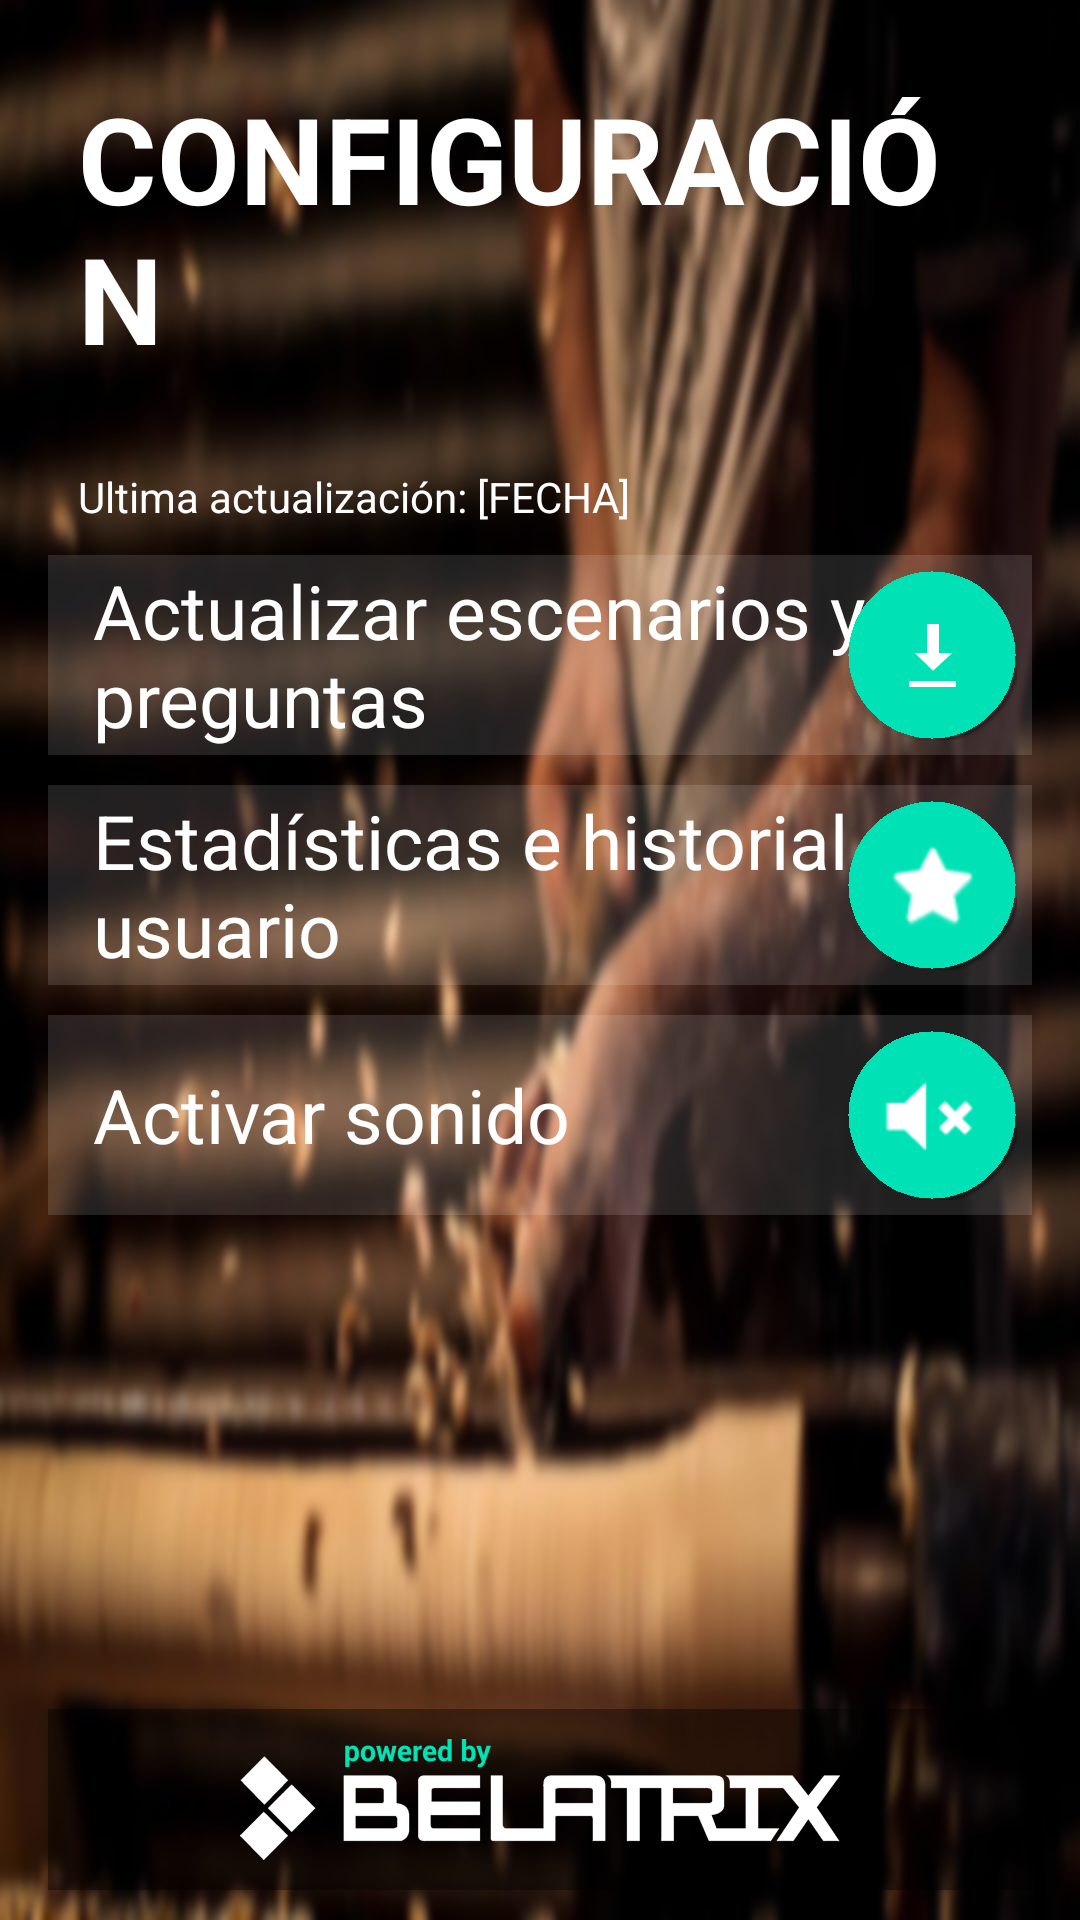

Screen size 1080 x 1920. Icon name, then its center in pixels as [x,y]:
download: [932,655]
star on: [932,885]
